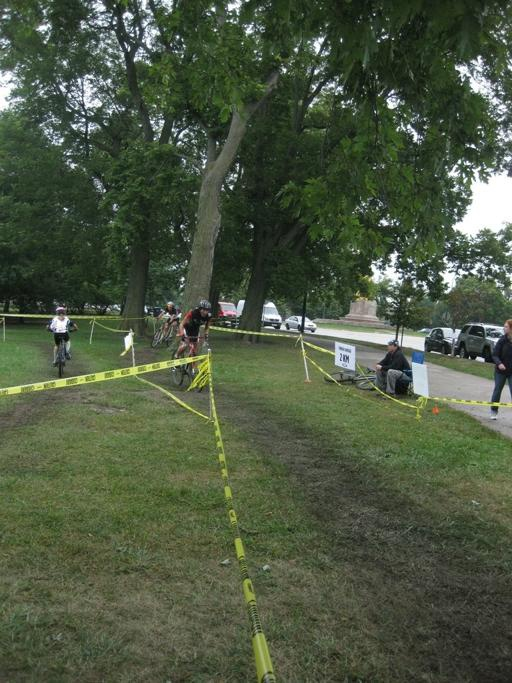non-vehicle: (171, 334, 208, 385), (46, 328, 77, 377), (323, 366, 376, 390), (150, 318, 177, 348)
